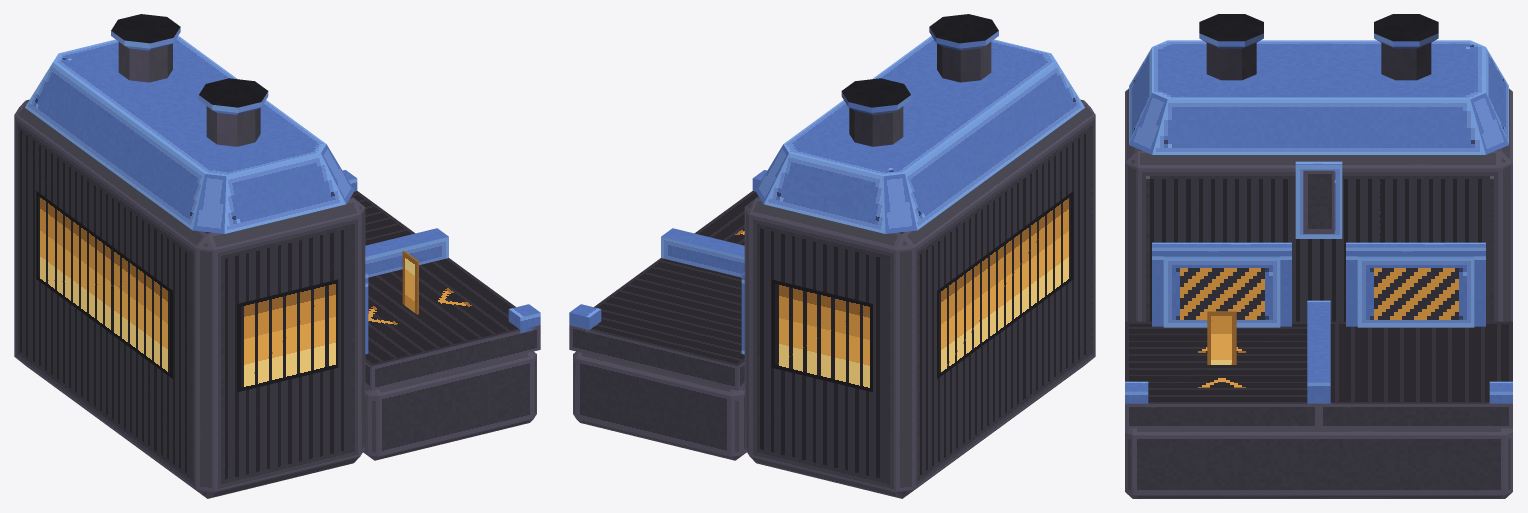
File: processor.glb
The picture shows the model from 3 angles, left to right: view 1: azimuth 30°, elevation 25°; view 2: azimuth 150°, elevation 25°; view 3: azimuth 270°, elevation 25°; orthographic projection.
Parts seen in each view (by area): view 1: processor_body, processor_glow, processor_gauge; view 2: processor_body, processor_glow; view 3: processor_body, processor_hatch_out, processor_hatch_in, processor_gauge.
Boxes of the visible parts, left/top/right/bottom form: processor_body: left=14, top=14, right=540, bottom=498; processor_glow: left=36, top=191, right=338, bottom=392; processor_gauge: left=402, top=250, right=418, bottom=314; processor_body: left=569, top=14, right=1095, bottom=498; processor_glow: left=771, top=191, right=1073, bottom=392; processor_body: left=1125, top=14, right=1512, bottom=498; processor_hatch_out: left=1357, top=256, right=1474, bottom=327; processor_hatch_in: left=1163, top=256, right=1280, bottom=327; processor_gauge: left=1207, top=311, right=1236, bottom=364.
Bounding box in the file's own units: 2 × 2 × 2.01.
Materials: 1 (1 with a texture image).
